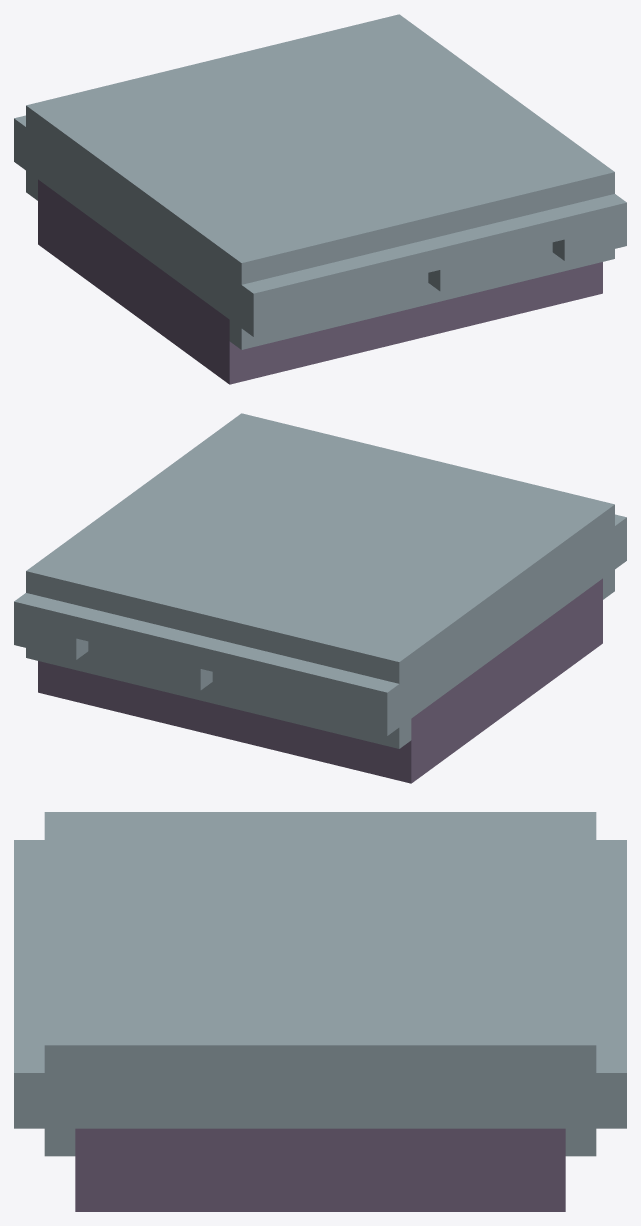
The model's file is Floors-8.obj.
The picture shows the model from 3 angles, top to bottom: view 1: azimuth 30°, elevation 25°; view 2: azimuth 150°, elevation 25°; view 3: azimuth 270°, elevation 25°; orthographic projection. The views are drawn at different scales.
Bounding box in the file's own units: 1.8 × 0.6 × 2.
